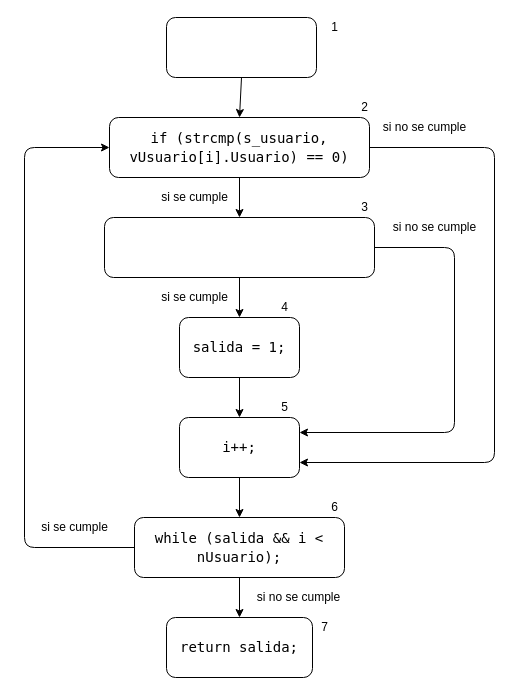
Some shapes in this 520 by 695 pixel diagram are drawn without their labels. The shapes that lost their labels are listed below. From the top down, each one's centre as x and y in pixels, then its label:
the point at 241,47: int i = 0; int salida = 0;
the point at 239,247: if (strcmp(s_contrasenna, vUsuario[i].Contrasenna) == 0)
